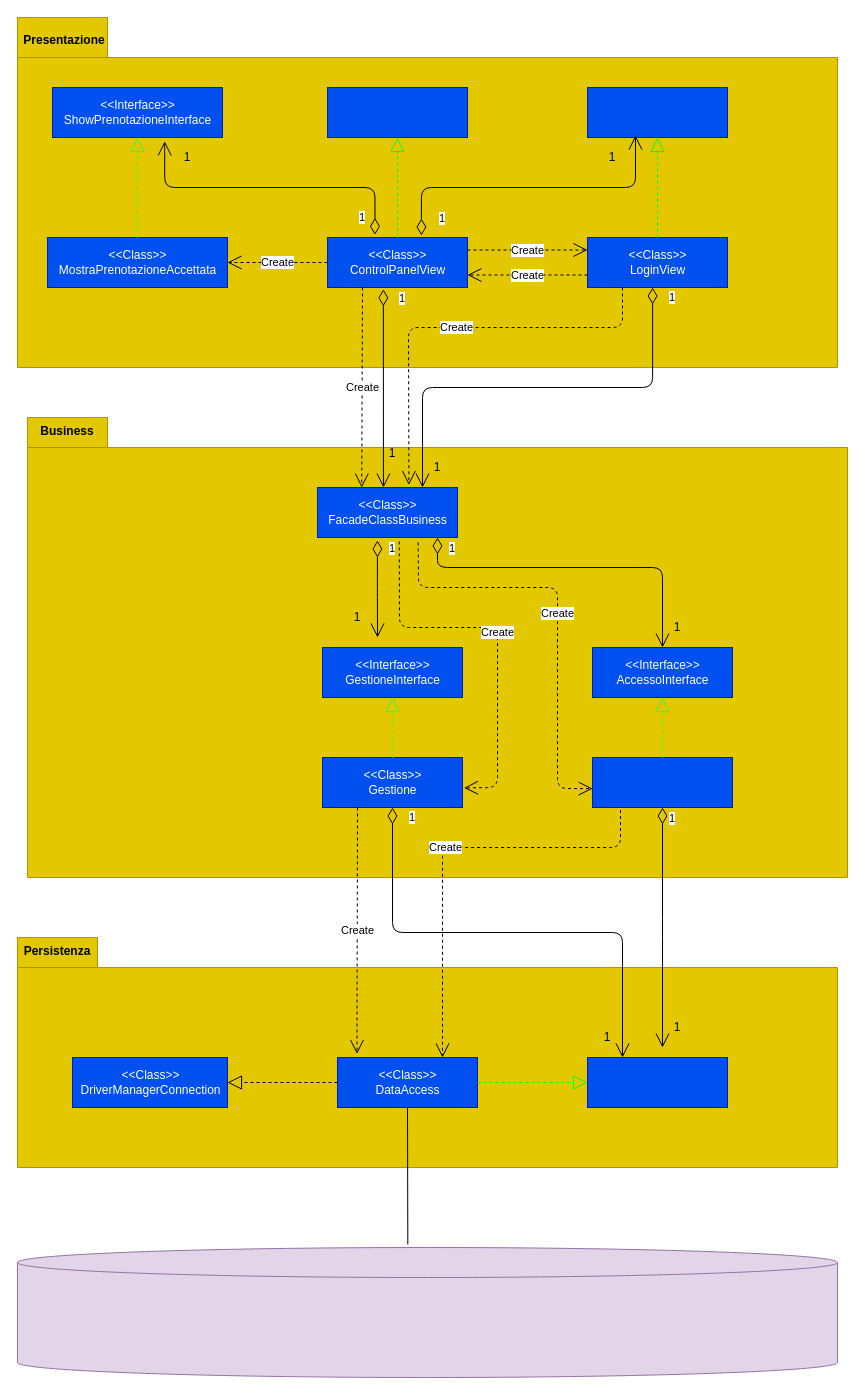
This 865x1395 diagram has some shape labels left out. The shapes that lost their labels are listed below. From the top down, each one's centre as x and y in pixels, then its label:
At point (397, 112): "<<Interface>> ControlPanelInterface".
At point (657, 112): "<<Interface>> LoginInterface".
At point (662, 782): "<<Class>> Accesso".
At point (657, 1082): "<<Interface>> DaoInterface".
At point (427, 1312): "Database".
